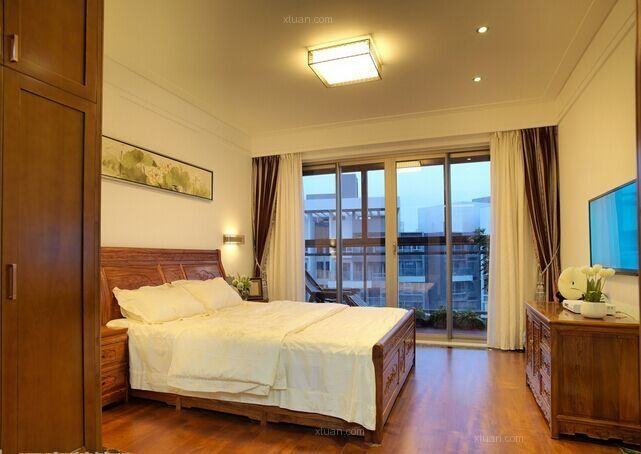床: (120, 295, 412, 431)
枕头: (113, 277, 249, 326)
灯: (307, 38, 390, 93), (220, 231, 247, 250), (477, 24, 496, 38), (472, 73, 488, 87)
